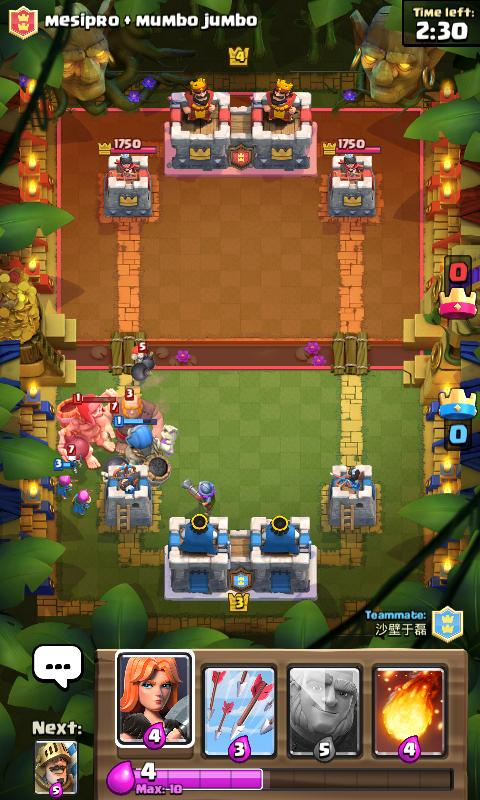ally_archer: (53, 457, 74, 499), (69, 485, 93, 517)
ally_giant_skeleton: (99, 415, 178, 485)
ally_musketeer: (180, 477, 216, 514)
enemy_bomber: (129, 340, 154, 380)
enemy_giant: (103, 387, 163, 453)
enemy_giant_skeleton: (54, 391, 115, 469)
